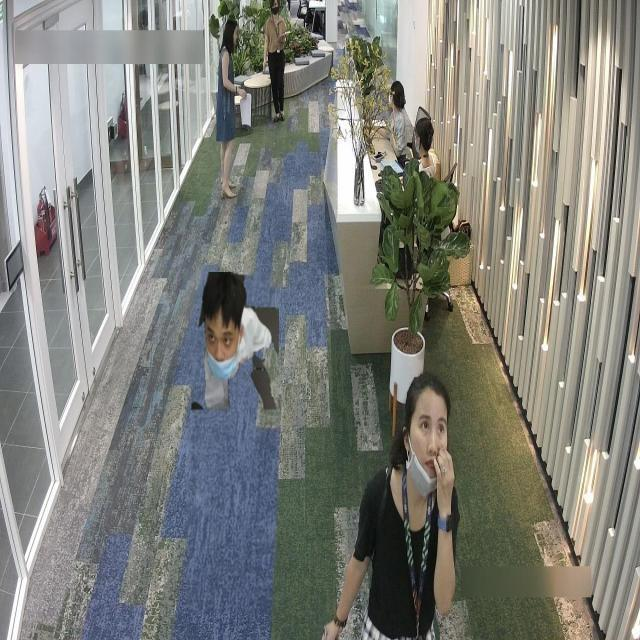hairnet: (204, 318, 240, 379)
